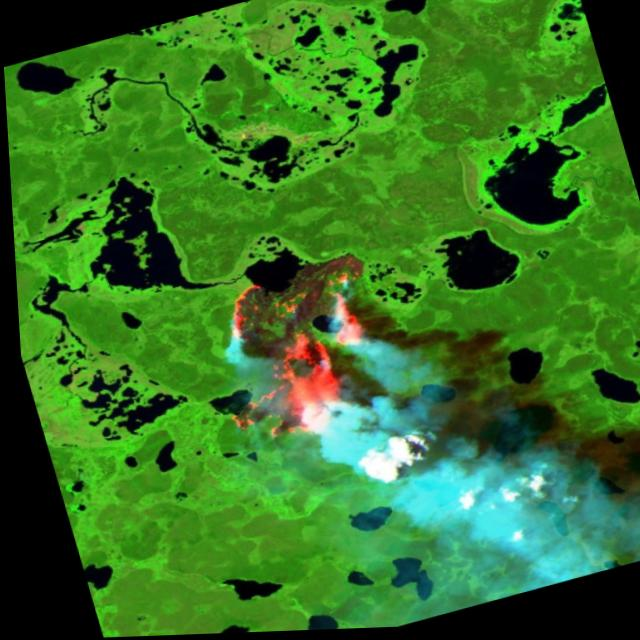fire: (186, 248, 411, 464)
